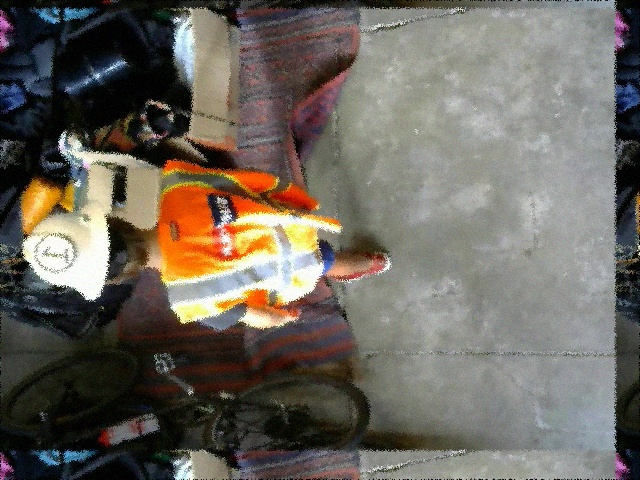one: (35, 234, 73, 271)
